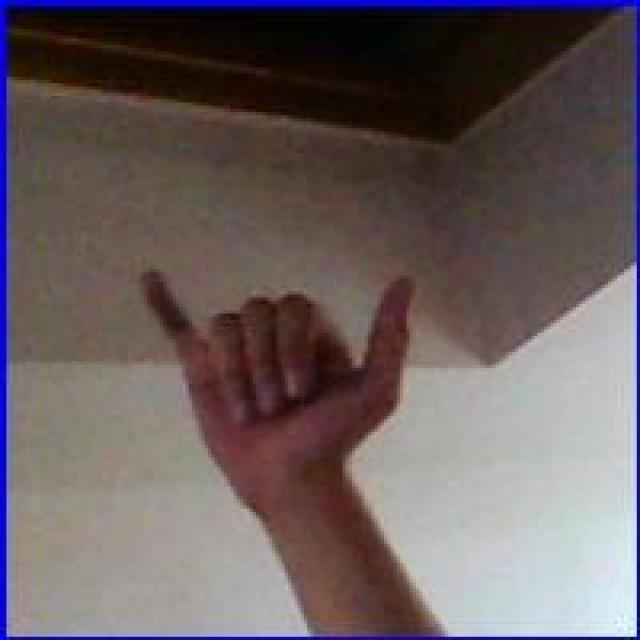Y: (138, 245, 422, 517)
